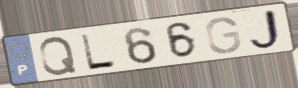6: (122, 26, 160, 65), (164, 21, 199, 60)
G: (203, 15, 243, 55)
J: (247, 7, 286, 52)
L: (79, 32, 120, 71)
Q: (37, 35, 80, 77)
